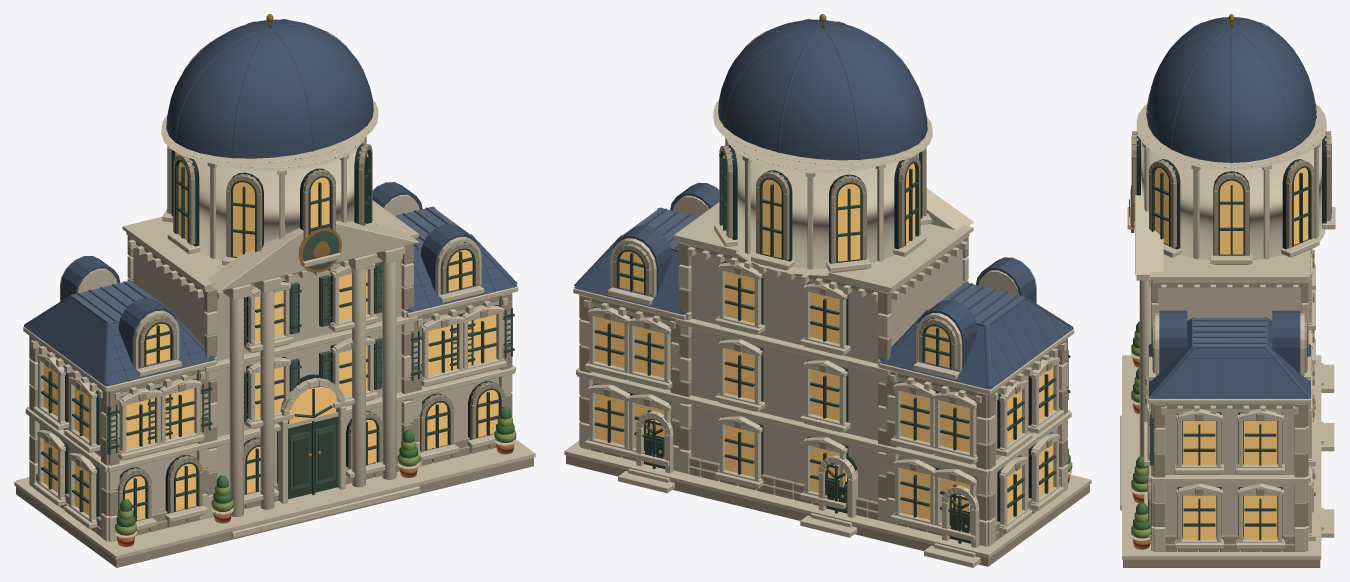
The picture shows the model from 3 angles, left to right: view 1: azimuth 30°, elevation 25°; view 2: azimuth 150°, elevation 25°; view 3: azimuth 270°, elevation 25°; orthographic projection. The views are drawn at different scales.
Parts seen in each view (by area): view 1: classic_finance_3_geometry, classic_finance_3_geometry ceramic; view 2: classic_finance_3_geometry, classic_finance_3_geometry ceramic; view 3: classic_finance_3_geometry, classic_finance_3_geometry ceramic.
Part boxes in pixels (x1,y1,x2,y2): classic_finance_3_geometry: (14,14,535,567); classic_finance_3_geometry ceramic: (24,19,517,386); classic_finance_3_geometry: (564,14,1091,567); classic_finance_3_geometry ceramic: (574,19,1073,389); classic_finance_3_geometry: (1120,14,1335,567); classic_finance_3_geometry ceramic: (1146,17,1316,398).
Bounding box in the file's own units: 2.26 × 2.38 × 1.02.
